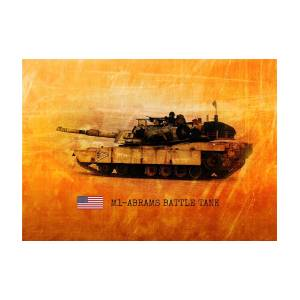Battle Tank: (60, 106, 253, 184)
